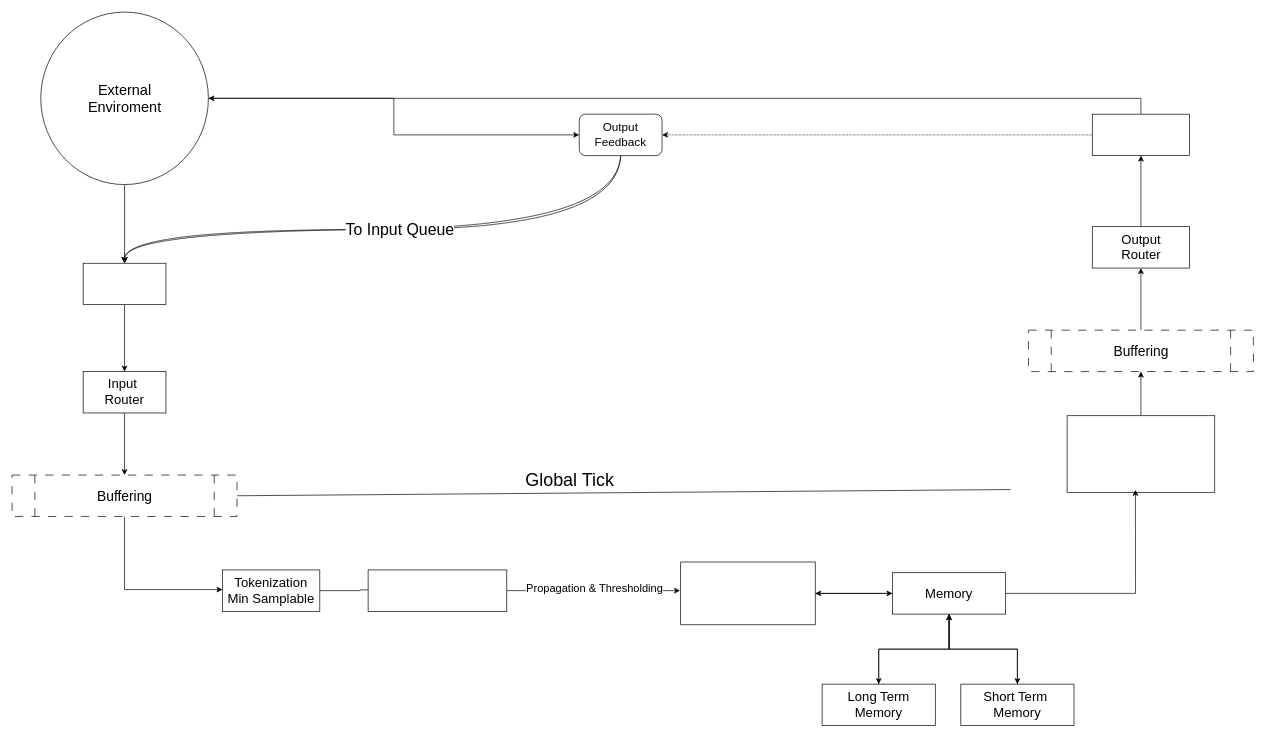
This 1265x738 diagram has some shape labels left out. The shapes that lost their labels are listed below. From the top down, each one's centre as x and y in pixels, then its label:
(1141,135): Output
(124,284): Input
(1140,453): Reasoning Core
(437,590): Pattern Activation Engine
(747,593): Conceptual Activation
